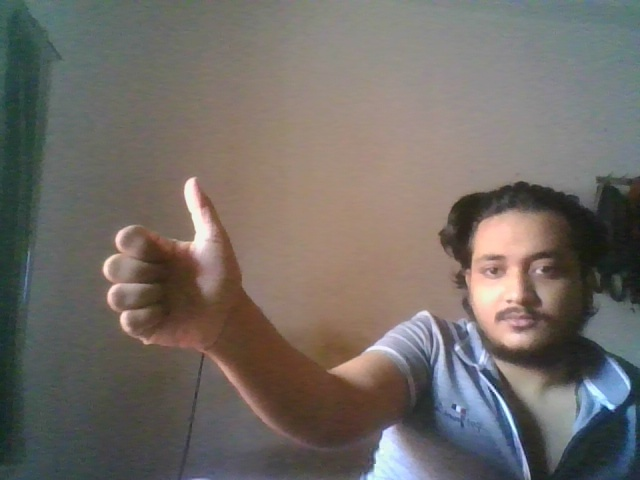ThumbsUp: (100, 174, 242, 357)
